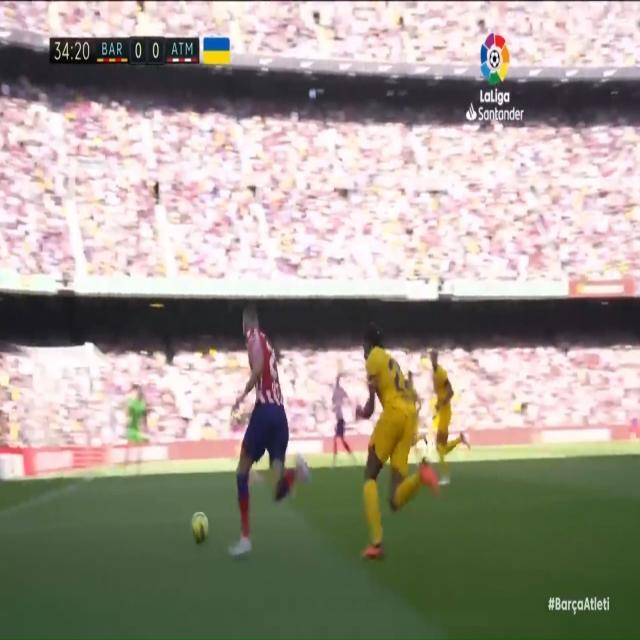ball: (187, 497, 213, 549)
goalkeeper: (120, 386, 155, 489)
player: (222, 287, 308, 567), (349, 303, 440, 567), (425, 343, 469, 492), (327, 368, 358, 477)
